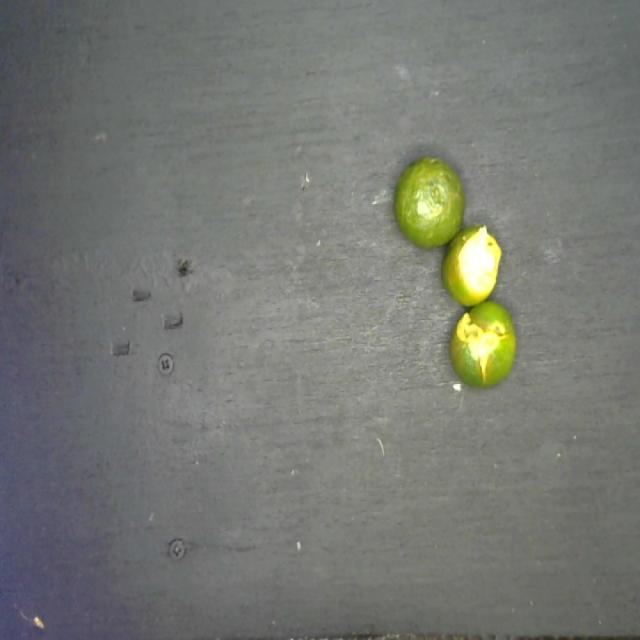biodegradable: (390, 141, 522, 391)
